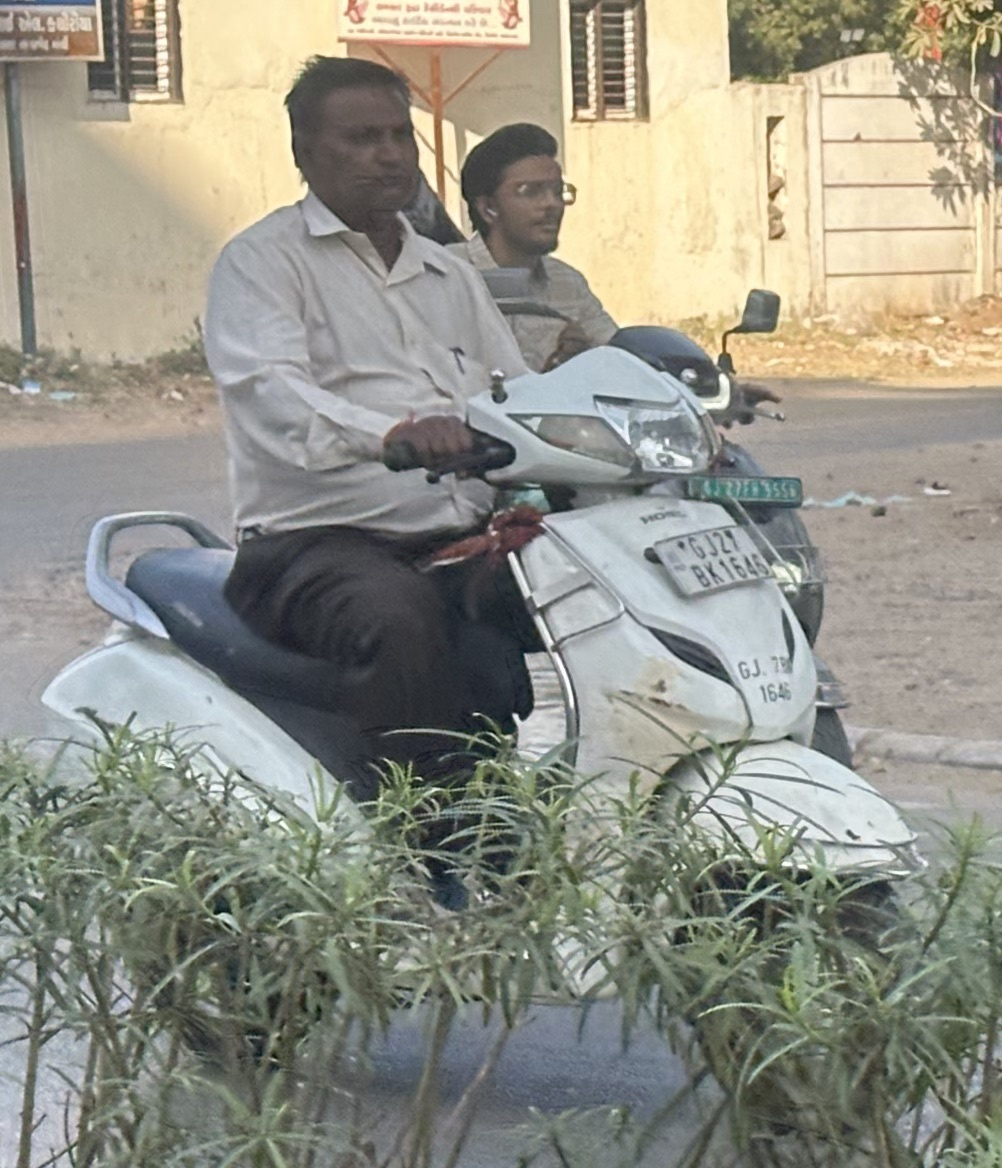BikeWithRider: (12, 44, 951, 1164)
NoHelmet: (265, 48, 438, 232), (448, 113, 589, 261)
